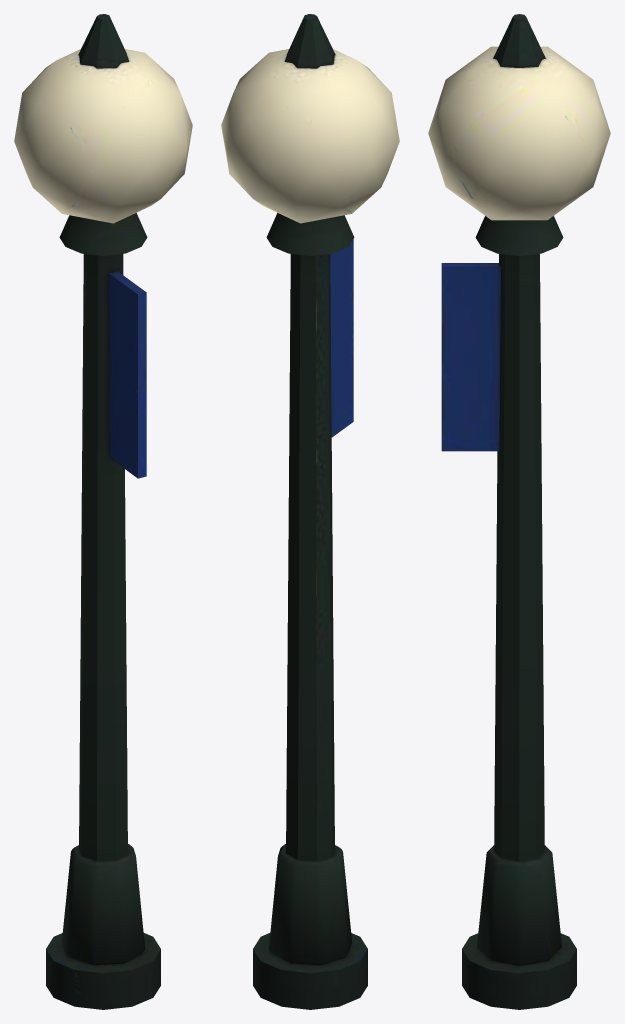
Rendered from farola.glb.
The picture shows the model from 3 angles, left to right: view 1: azimuth 30°, elevation 25°; view 2: azimuth 150°, elevation 25°; view 3: azimuth 270°, elevation 25°; orthographic projection.
Parts seen in each view (by area): view 1: farola; view 2: farola; view 3: farola.
Boxes of the visible parts, left/top/right/bottom form: farola: left=14, top=14, right=192, bottom=1009; farola: left=221, top=14, right=399, bottom=1009; farola: left=428, top=14, right=610, bottom=1009.
Bounding box in the file's own units: 0.5136 × 3.16 × 0.54.
Materials: 1 (1 with a texture image).
